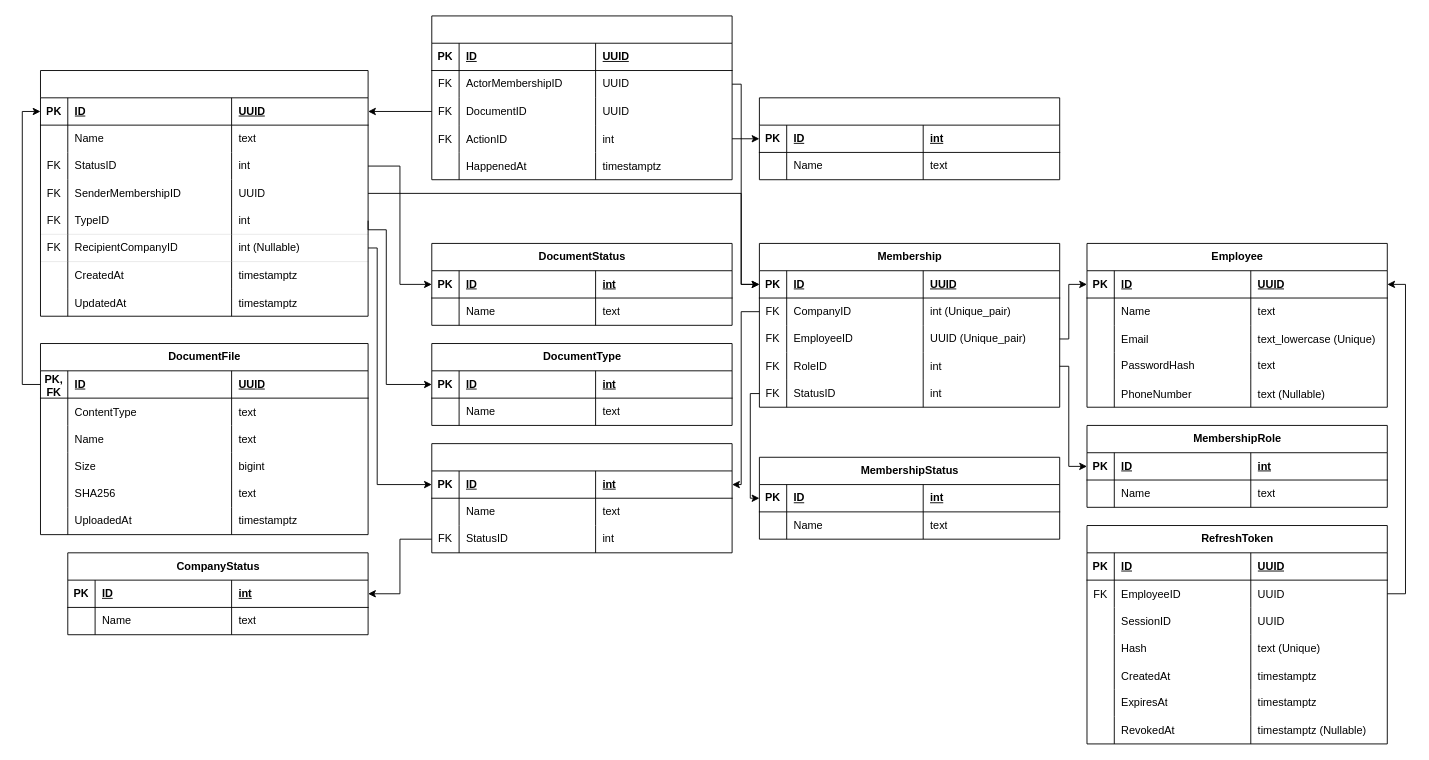
The diagram is 1429 pixels wide and 760 high, and some of its shapes have lost their labels. Here are the shapes that lost their labels. From the top down, the box of each, then its label:
(431, 15, 732, 180): History
(758, 97, 1060, 180): HistoryAction
(40, 70, 368, 316): Document
(431, 443, 732, 553): Company
